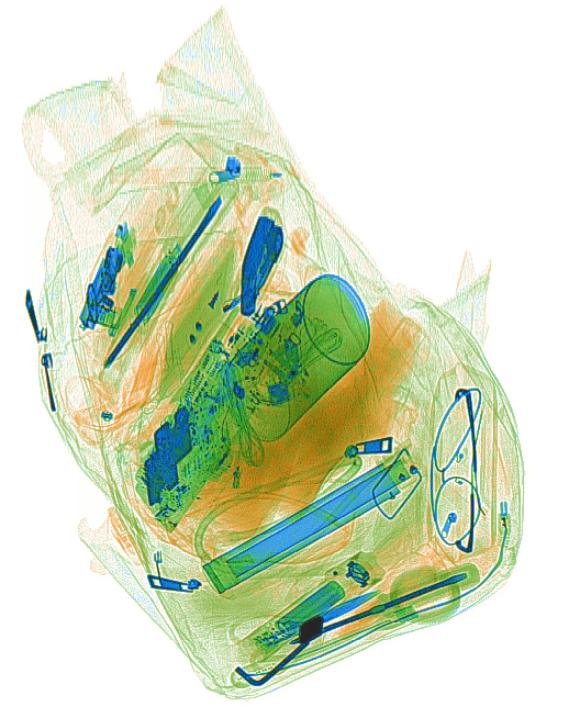battery: (276, 580, 345, 639), (134, 253, 178, 325), (240, 213, 273, 280), (241, 266, 258, 316)
scissors: (228, 587, 380, 676)
